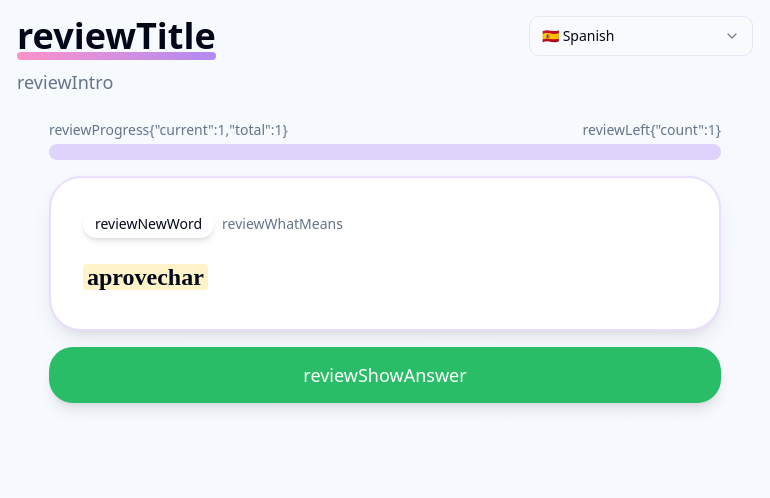
Scenario: ReviewPage › summarises the session and starts another on request
The image size is (770, 498).
Expected: the element with test id "review-session" is shown, [49,120,721,403]
Click the button "reviewShowAnswer" at (385, 375), box [49,347,721,403]
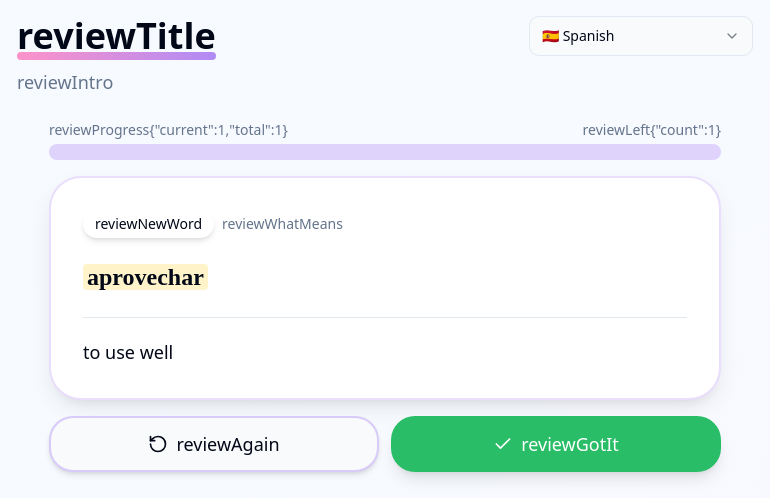
Click the button "reviewGotIt" at (556, 444), box [391,416,721,472]
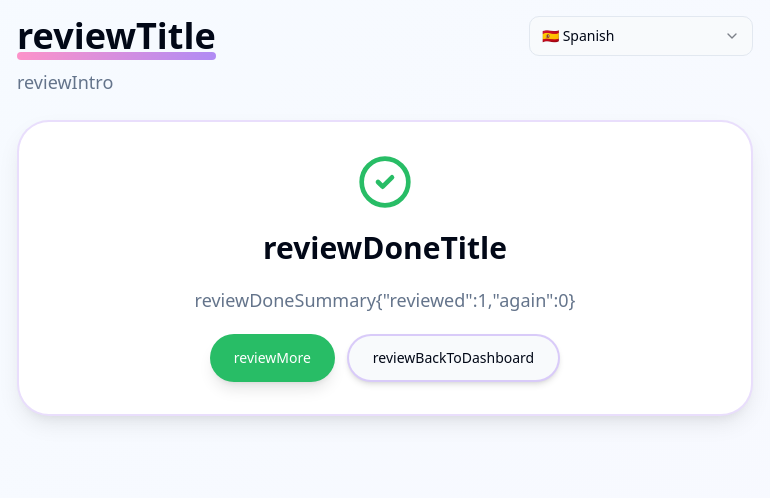
Result: the element with test id "review-finished" shows "\"reviewed\":1" at [195,288,575,312]
Click the button "reviewMore" at (272, 358), box [210,334,335,382]
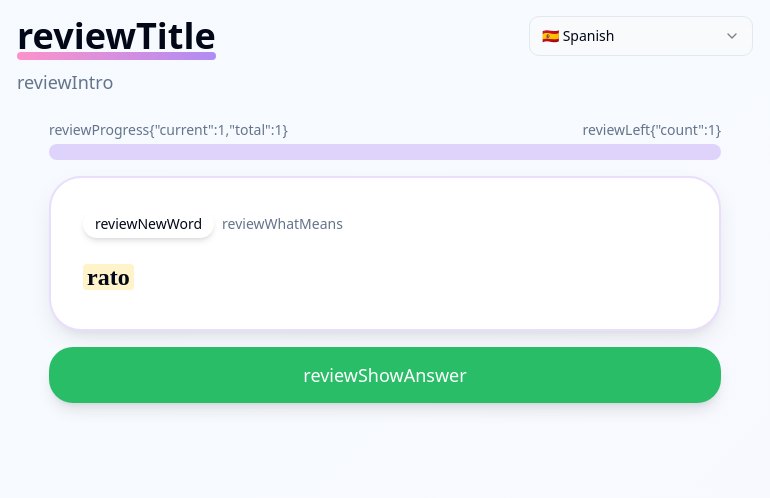
Result: the element with test id "review-front" reads "rato" at [87,264,130,290]
